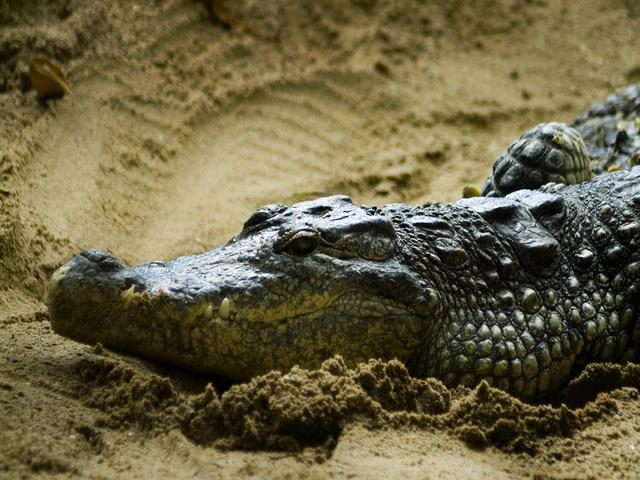crocodile: (41, 136, 640, 456)
